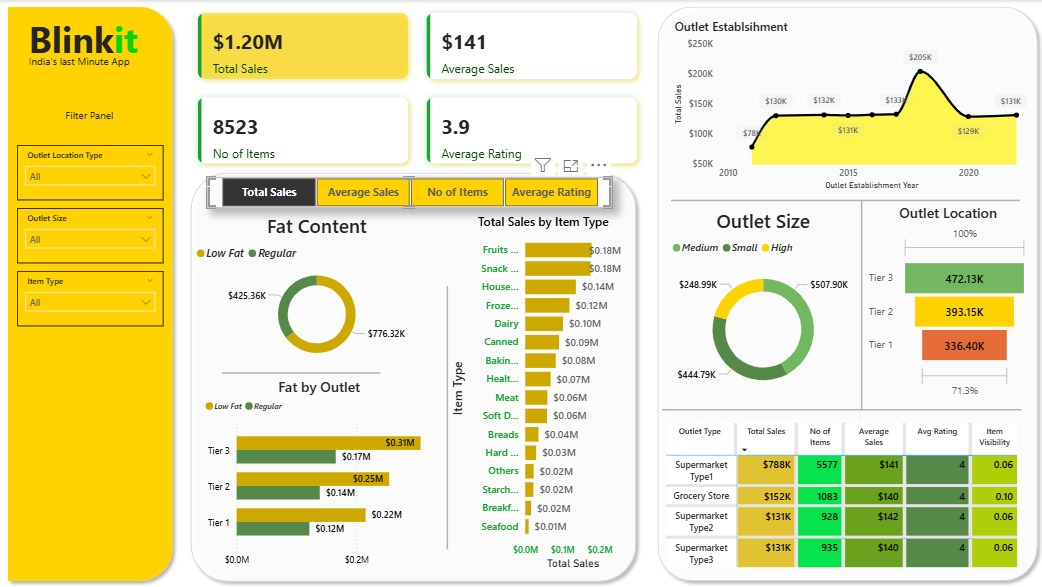

What the dashboard file says about the page in this screenshot:
{"tool":"powerbi","page":{"name":"Page 1","canvas":[1400,800],"ordinal":0},"visuals":[{"type":"shape","box":[3.6,0,238.7,786.2],"z":0},{"type":"textbox","box":[36.7,12.9,172.7,75.3],"z":1000},{"type":"textbox","box":[36.7,68,194.8,38.6],"z":2000},{"type":"cardVisual","fields":{"Data":["BlinkIT Grocery Data.Total Sales","BlinkIT Grocery Data.Average Sales","BlinkIT Grocery Data.No of Items","BlinkIT Grocery Data.Average Rating"]},"box":[250.6,0,622.8,236.1],"z":3000},{"type":"shape","box":[248.8,221.5,613.7,564.7],"z":4000},{"type":"donutChart","title":"Fat Content","fields":{"Y":["BlinkIT Grocery Data.No of Items"],"Category":["BlinkIT Grocery Data.Item Fat Content"]},"box":[265.1,285.1,323.2,201.6],"z":5000},{"type":"slicer","fields":{"Values":["Metrics.Metrics"]},"box":[280,236.9,542.1,41.3],"z":6000},{"type":"clusteredBarChart","title":"Fat by Outlet","fields":{"Y":["BlinkIT Grocery Data.No of Items"],"Category":["BlinkIT Grocery Data.Outlet Location Type"],"Series":["BlinkIT Grocery Data.Item Fat Content"]},"box":[265.6,504.4,323.1,262.1],"z":7000},{"type":"shape","box":[299.7,493.6,211.8,10.8],"z":8000},{"type":"shape","box":[1145.8,268.7,14.5,352.3],"z":9000},{"type":"barChart","fields":{"Y":["BlinkIT Grocery Data.No of Items"],"Category":["BlinkIT Grocery Data.Item Type"]},"box":[602.9,285.1,252.4,481.2],"z":10000},{"type":"shape","box":[874.1,0,525.9,786.2],"z":11000},{"type":"lineChart","title":"Outlet Establsihment","fields":{"Category":["BlinkIT Grocery Data.Outlet Establishment Year"],"Y":["BlinkIT Grocery Data.Total Sales"]},"box":[900.6,23.6,481.2,234.2],"z":12000},{"type":"shape","box":[900.6,257.8,466.7,20],"z":13000},{"type":"donutChart","title":"Outlet Size","fields":{"Y":["BlinkIT Grocery Data.Total Sales"],"Category":["BlinkIT Grocery Data.Outlet Size"]},"box":[901,278.2,244.1,258.5],"z":14000},{"type":"shape","box":[599.2,383.1,3.6,352.3],"z":15000},{"type":"shape","box":[1152.3,269.2,7.2,280],"z":16000},{"type":"funnel","title":"Outlet Location ","fields":{"Category":["BlinkIT Grocery Data.Outlet Location Type"],"Y":["Sum(BlinkIT Grocery Data.Sales)"]},"box":[1159.5,271,222.6,265.6],"z":17000},{"type":"shape","box":[888.5,536.7,481,23.3],"z":18000},{"type":"pivotTable","fields":{"Rows":["BlinkIT Grocery Data.Outlet Type"],"Values":["BlinkIT Grocery Data.Total Sales","BlinkIT Grocery Data.No of Items","BlinkIT Grocery Data.Average Sales","BlinkIT Grocery Data.Average Rating","Avg(BlinkIT Grocery Data.Item Visibility)"]},"box":[888.5,560,493.6,240.5],"z":19000},{"type":"slicer","fields":{"Values":["BlinkIT Grocery Data.Outlet Location Type"]},"box":[25.1,193.8,195.6,73.6],"z":20000},{"type":"slicer","fields":{"Values":["BlinkIT Grocery Data.Outlet Size"]},"box":[25.1,278.2,195.6,73.6],"z":21000},{"type":"slicer","fields":{"Values":["BlinkIT Grocery Data.Item Type"]},"box":[25.1,362.6,195.6,73.6],"z":22000},{"type":"textbox","box":[35.9,140,172.3,34.1],"z":23000}]}

Visuals, with their boxes in screenshot pixels (x1, y1, x2, y2), scaled from the page's 1400x800 canvas onto the 1042x587 screenshot:
shape: {"x1": 3, "y1": 0, "x2": 180, "y2": 577}
textbox: {"x1": 27, "y1": 9, "x2": 156, "y2": 65}
textbox: {"x1": 27, "y1": 50, "x2": 172, "y2": 78}
cardVisual - BlinkIT Grocery Data.Total Sales x BlinkIT Grocery Data.Average Sales: {"x1": 187, "y1": 0, "x2": 650, "y2": 173}
shape: {"x1": 185, "y1": 163, "x2": 642, "y2": 577}
"Fat Content" donutChart: {"x1": 197, "y1": 209, "x2": 438, "y2": 357}
slicer - Metrics.Metrics: {"x1": 208, "y1": 174, "x2": 612, "y2": 204}
"Fat by Outlet" clusteredBarChart: {"x1": 198, "y1": 370, "x2": 438, "y2": 562}
shape: {"x1": 223, "y1": 362, "x2": 381, "y2": 370}
shape: {"x1": 853, "y1": 197, "x2": 864, "y2": 456}
barChart - BlinkIT Grocery Data.No of Items x BlinkIT Grocery Data.Item Type: {"x1": 449, "y1": 209, "x2": 637, "y2": 562}
shape: {"x1": 651, "y1": 0, "x2": 1041, "y2": 577}
"Outlet Establsihment" lineChart: {"x1": 670, "y1": 17, "x2": 1028, "y2": 189}
shape: {"x1": 670, "y1": 189, "x2": 1018, "y2": 204}
"Outlet Size" donutChart: {"x1": 671, "y1": 204, "x2": 852, "y2": 394}
shape: {"x1": 446, "y1": 281, "x2": 449, "y2": 540}
shape: {"x1": 858, "y1": 198, "x2": 863, "y2": 403}
"Outlet Location " funnel: {"x1": 863, "y1": 199, "x2": 1029, "y2": 394}
shape: {"x1": 661, "y1": 394, "x2": 1019, "y2": 411}
pivotTable - BlinkIT Grocery Data.Outlet Type x BlinkIT Grocery Data.Total Sales: {"x1": 661, "y1": 411, "x2": 1029, "y2": 586}
slicer - BlinkIT Grocery Data.Outlet Location Type: {"x1": 19, "y1": 142, "x2": 164, "y2": 196}
slicer - BlinkIT Grocery Data.Outlet Size: {"x1": 19, "y1": 204, "x2": 164, "y2": 258}
slicer - BlinkIT Grocery Data.Item Type: {"x1": 19, "y1": 266, "x2": 164, "y2": 320}
textbox: {"x1": 27, "y1": 103, "x2": 155, "y2": 128}
